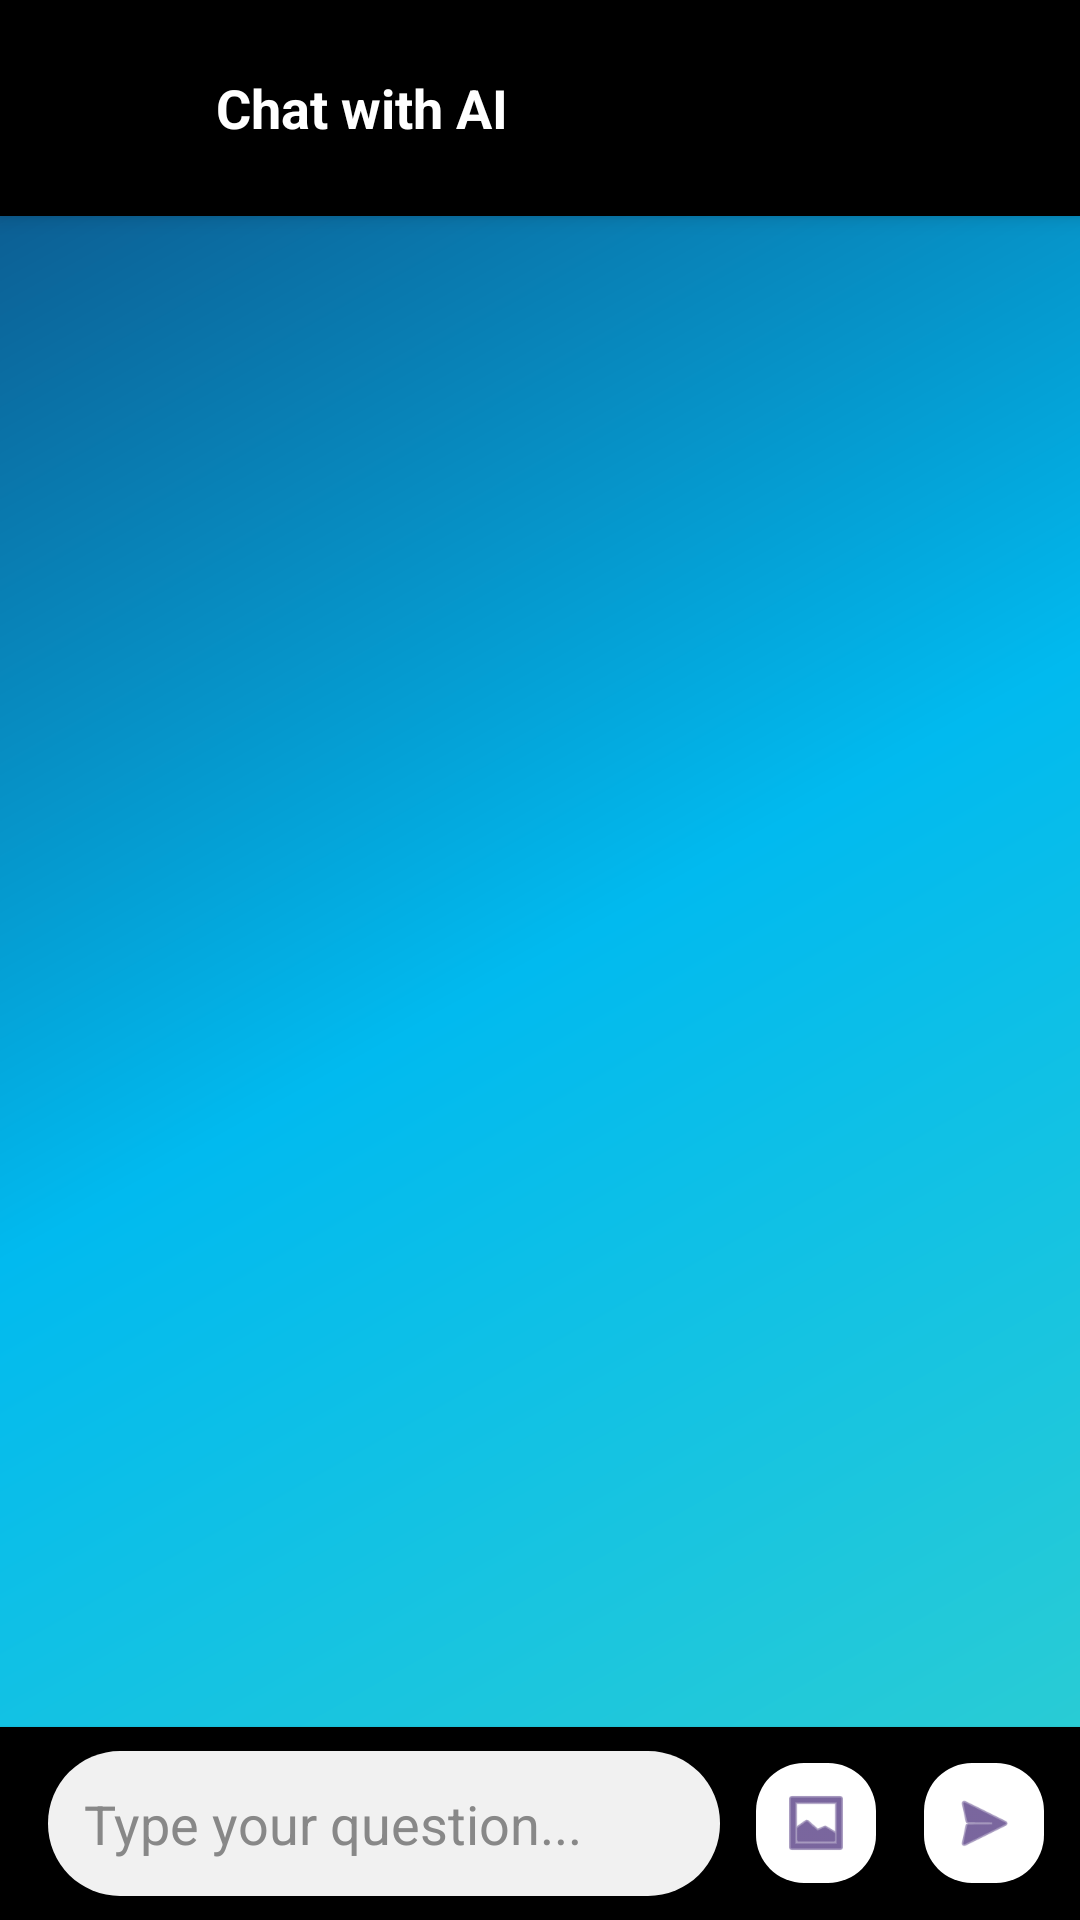

Icon click points for this 1080 × 1920 phone screenshot, format (x=x, y=y):
Add image: (x=816, y=1823)
Send: (x=984, y=1823)
